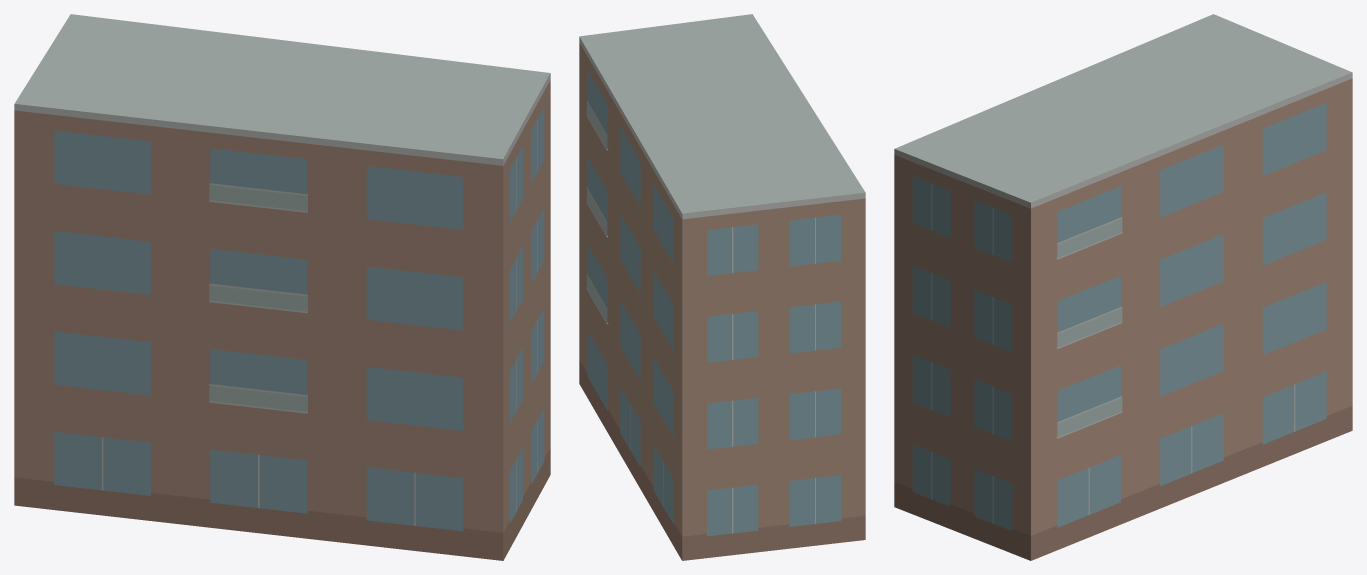
The model's file is survey-upis-32773104.glb.
3 views of the same model, side by side, from view 1: azimuth 30°, elevation 25°; view 2: azimuth 150°, elevation 25°; view 3: azimuth 270°, elevation 25° (orthographic). The views are drawn at different scales.
Visible parts, largest first — view 1: survey-upis-32773104.tmp; view 2: survey-upis-32773104.tmp; view 3: survey-upis-32773104.tmp.
Part boxes in pixels (x1,y1,x2,y2): survey-upis-32773104.tmp: (14, 14, 550, 560); survey-upis-32773104.tmp: (579, 14, 865, 560); survey-upis-32773104.tmp: (894, 14, 1352, 560).
Bounding box in the file's own units: 16.73 × 14.8 × 17.17.
